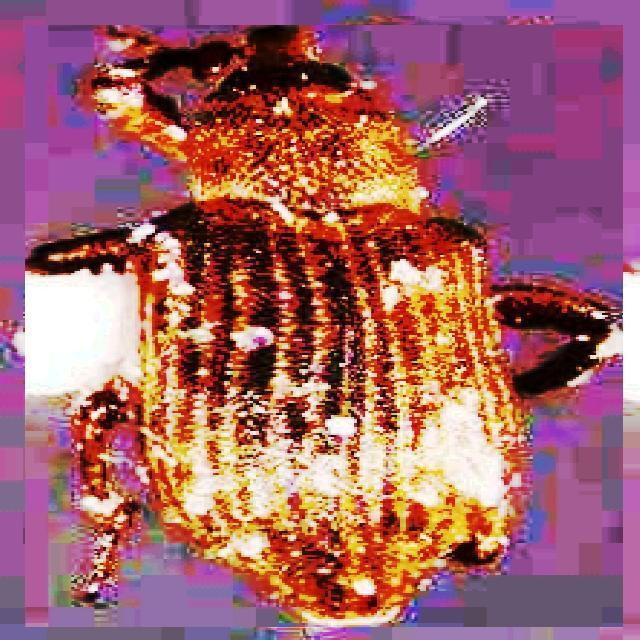rice-bug: (25, 26, 623, 627)
